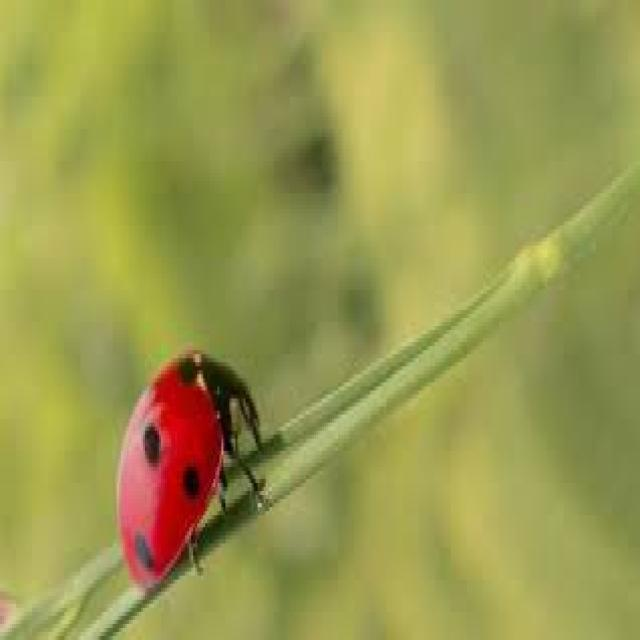ladybug: (117, 350, 262, 588)
